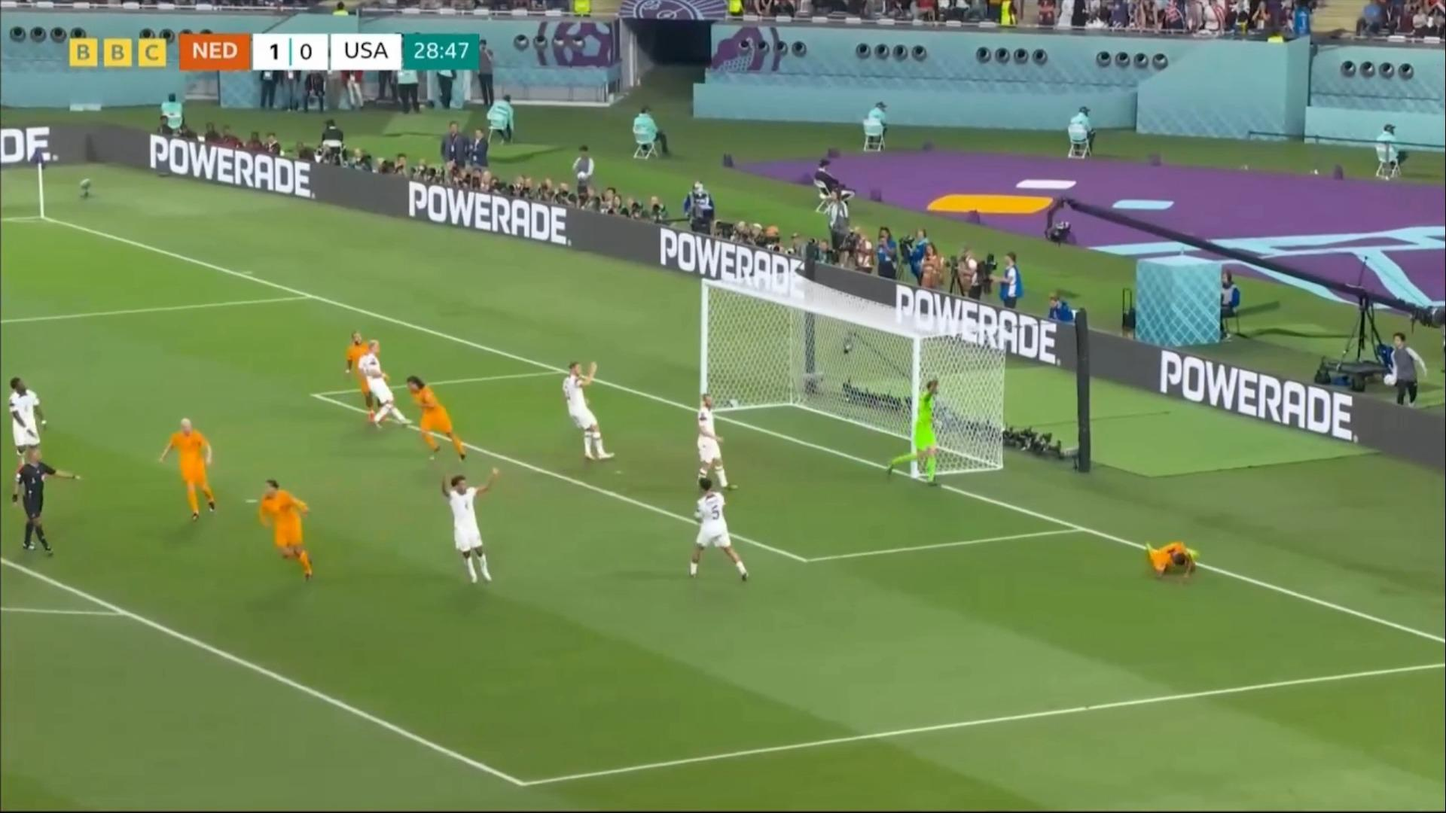Player: (252, 474, 323, 586), (437, 473, 499, 590), (154, 416, 220, 523), (684, 478, 750, 585), (553, 357, 616, 467), (886, 378, 940, 487), (404, 377, 468, 468), (6, 375, 56, 489), (336, 327, 391, 425), (361, 340, 412, 429), (694, 391, 736, 494), (1389, 333, 1427, 408), (1149, 533, 1198, 587), (991, 252, 1023, 309)
Ref: (10, 453, 64, 561)
